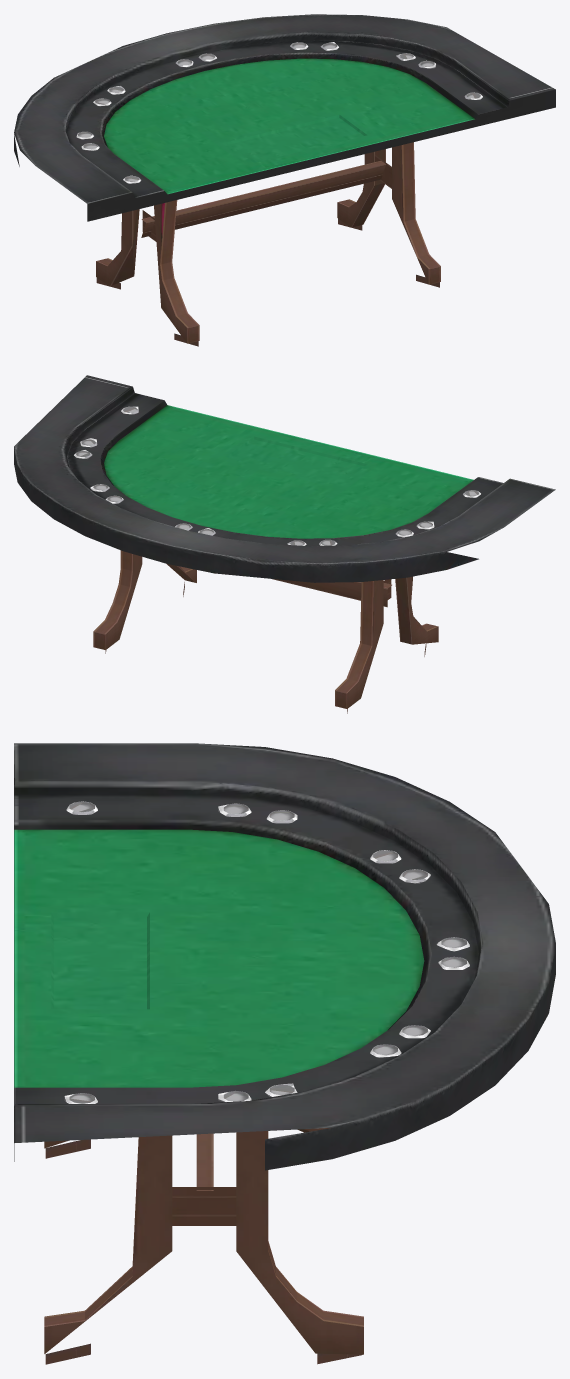
Rendered from cove-table-clean.glb.
3 views of the same model, one above another, from view 1: azimuth 30°, elevation 25°; view 2: azimuth 150°, elevation 25°; view 3: azimuth 270°, elevation 25° (orthographic). The views are drawn at different scales.
Visible parts, largest first — view 1: Table_BL; view 2: Table_BL; view 3: Table_BL.
Boxes of the visible parts, x1,y1,x2,y2 form: Table_BL: (14, 14, 555, 346); Table_BL: (14, 375, 555, 713); Table_BL: (14, 743, 555, 1364).
Size of the model in its own units: 86.63 by 31.58 by 49.62.
2 materials, 2 textured.
